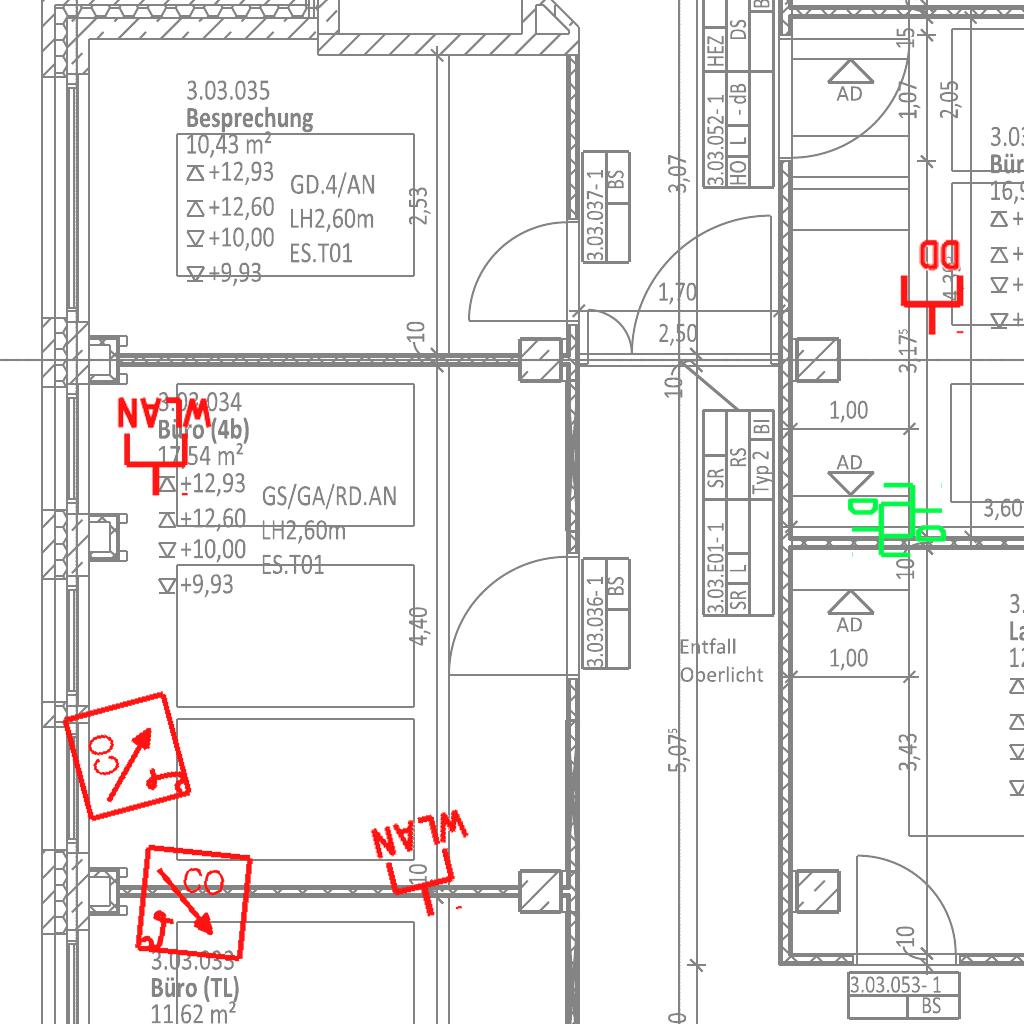Datenanschluss_einfach: (845, 478, 945, 547), (849, 493, 949, 562)
Datenanschluss_zweifach: (896, 235, 965, 338)
ROA_Rauchmelder_optisch_mit_Signalgeber_(Sockelsirene): (59, 686, 198, 825), (132, 842, 257, 967)
WLAN: (365, 803, 492, 931), (113, 395, 217, 500)
